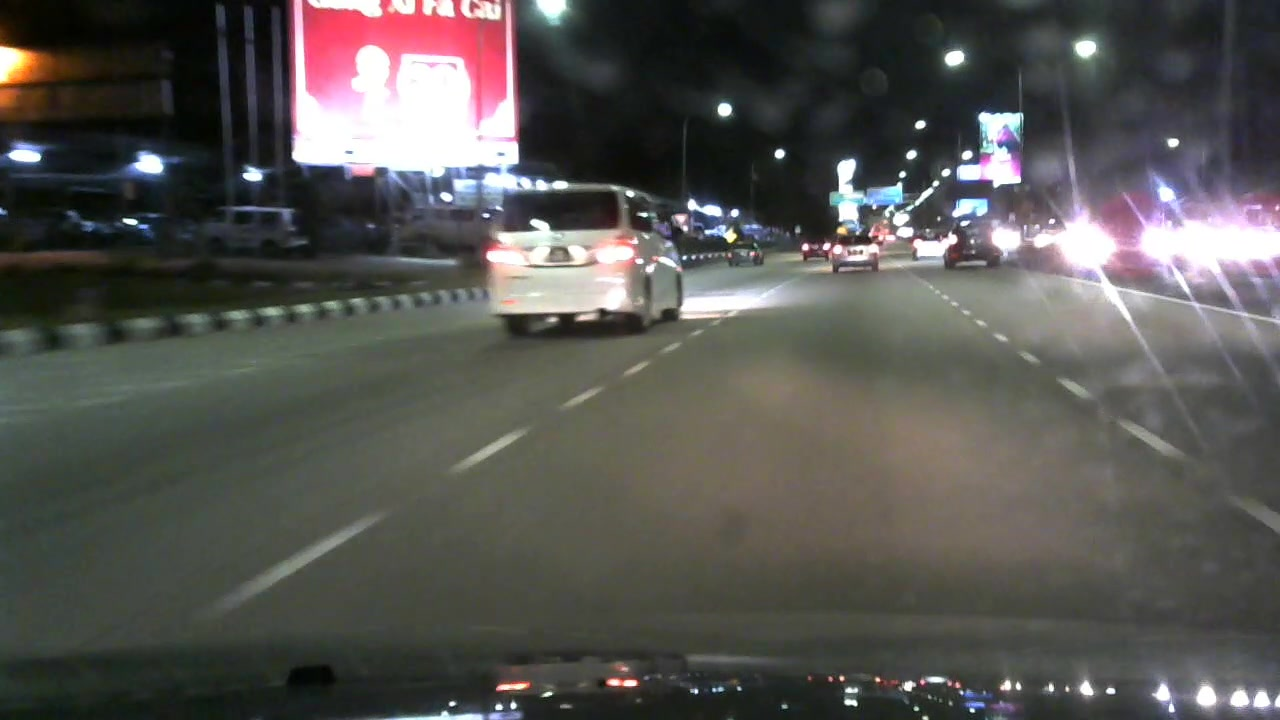Car: (463, 177, 699, 346), (936, 220, 1005, 277), (825, 227, 887, 280), (726, 238, 769, 271), (909, 229, 949, 263), (793, 232, 838, 261)
